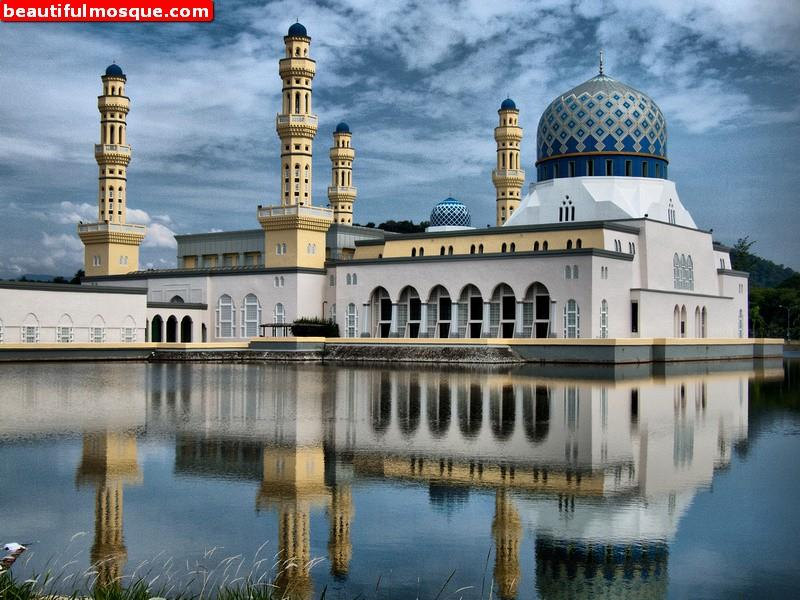Mosque: (24, 35, 734, 366)
